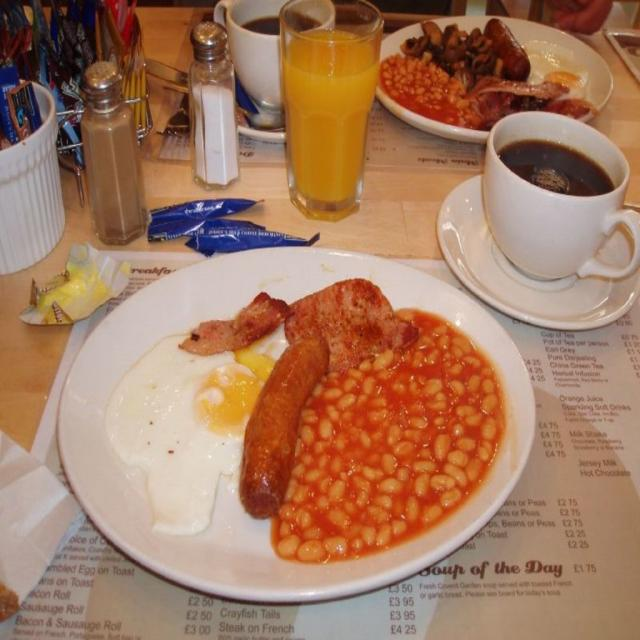Coffee: (496, 140, 613, 197), (243, 15, 325, 33)
Tea: (494, 138, 618, 198), (238, 15, 316, 37)
